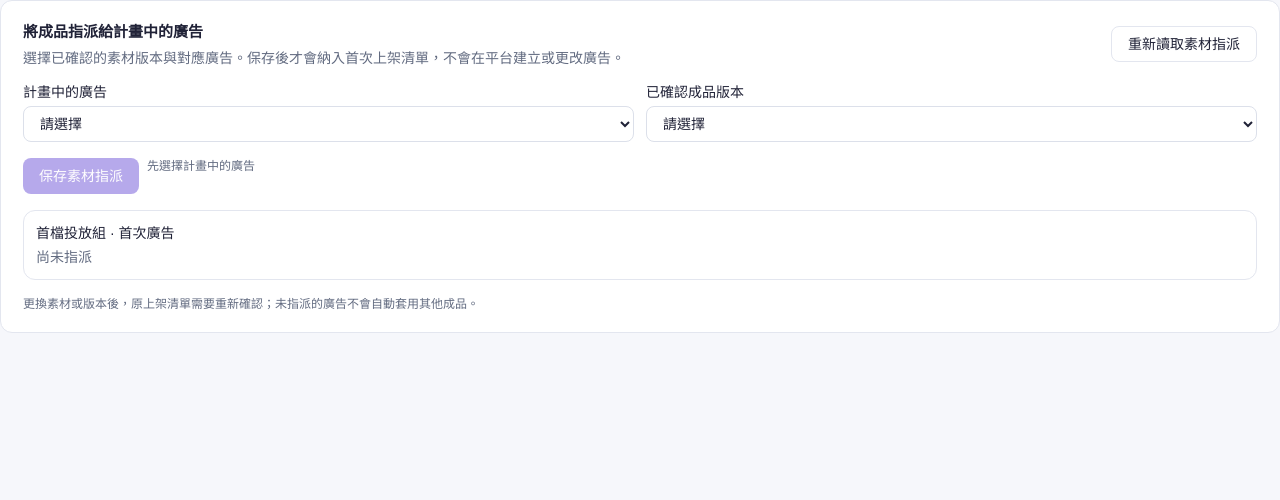
Test: shows the slot upload's refusal verbatim and keeps the unassigned state
Step 1. Select "首檔投放組 · 首次廣告" in the dropdown labelled "計畫中的廣告" → (328, 124), box [23,106,634,142]
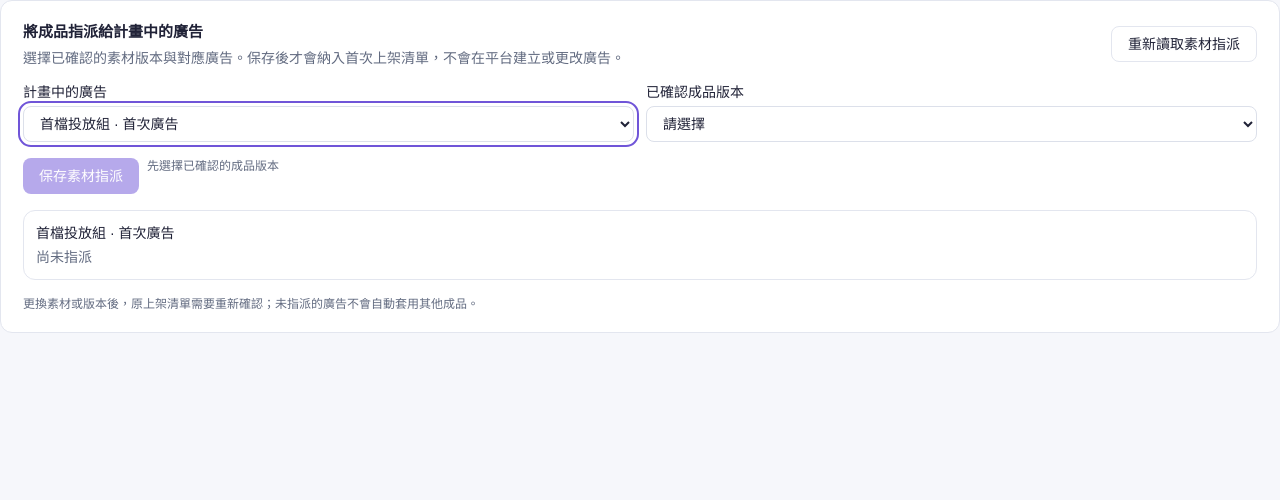
Step 2. Select "已完成素材.png · 版本 3" in the dropdown labelled "已確認成品版本" → (952, 124), box [646,106,1257,142]
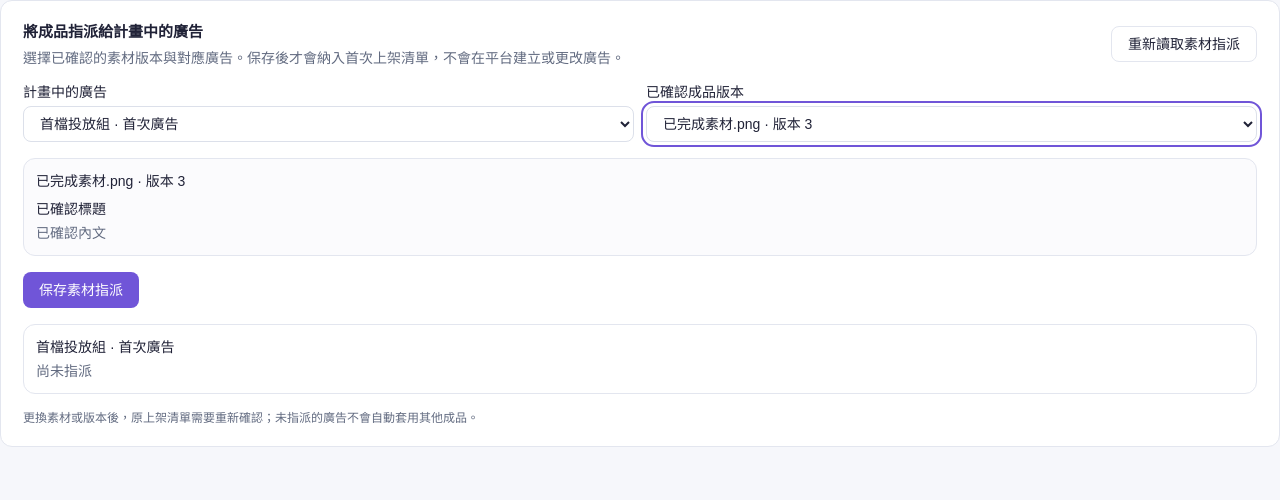
Step 3. Click the button "保存素材指派" → click(81, 290), box [23,272,139,308]
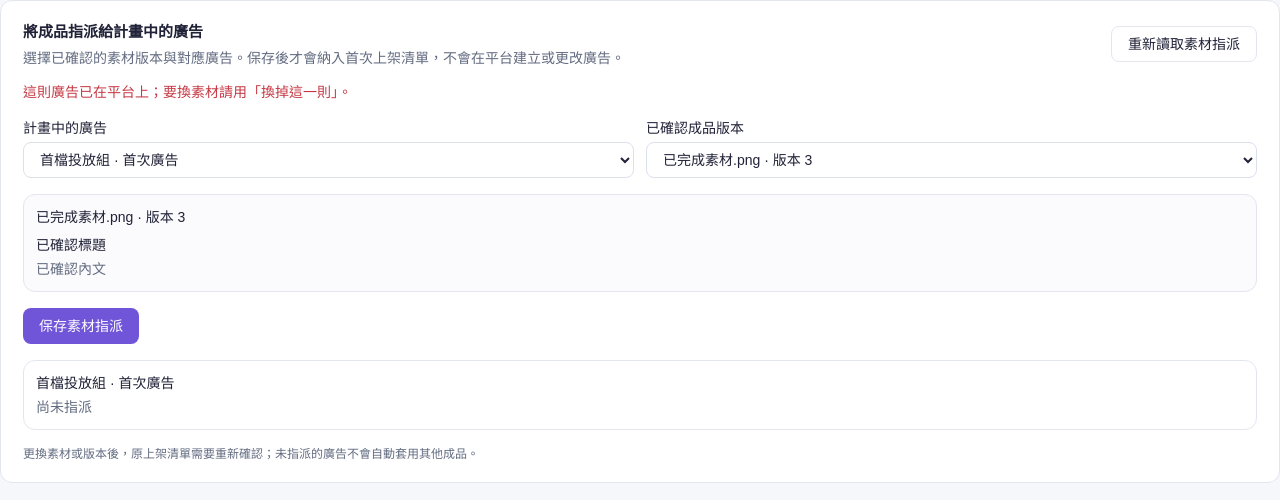
Expected: the text "尚未指派" is shown, [36,398,92,414]
Expected: the text "這則廣告已在平台上；要換素材請用「換掉這一則」。" is shown, [23,84,352,100]
